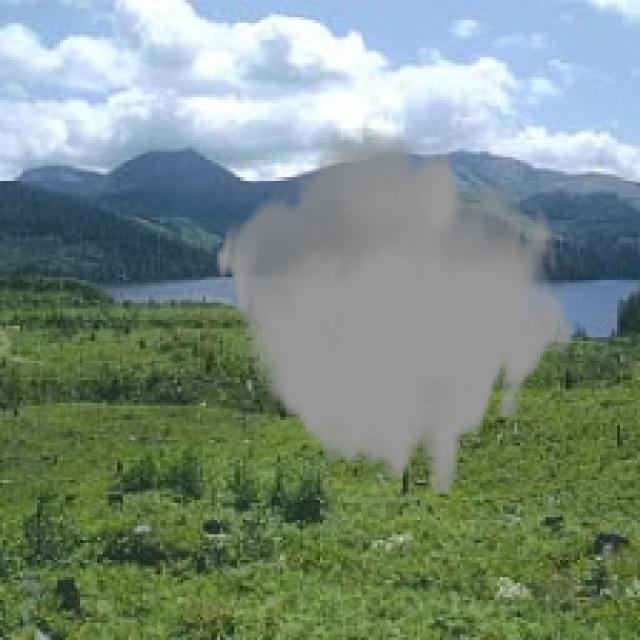Smoke: (215, 128, 574, 494)
